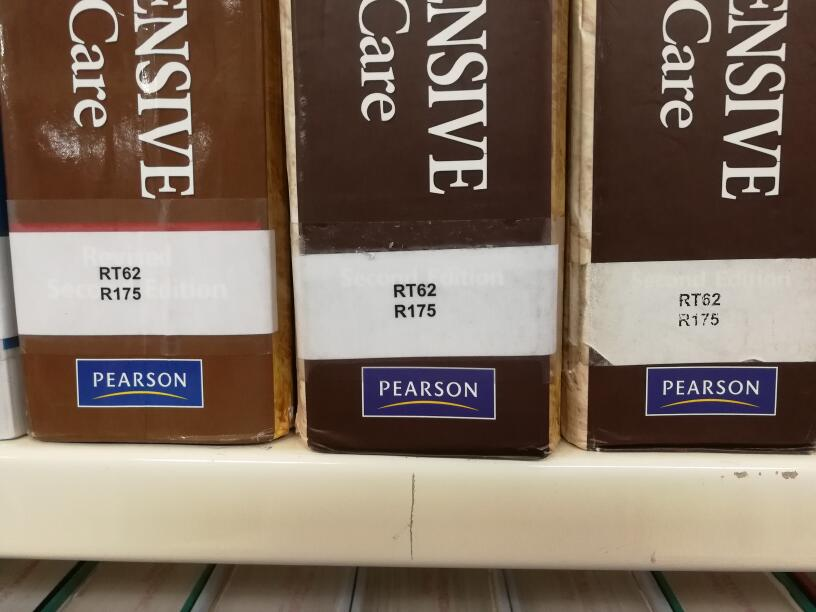booklabel: (95, 263, 144, 301), (392, 280, 438, 320), (677, 290, 722, 328)
